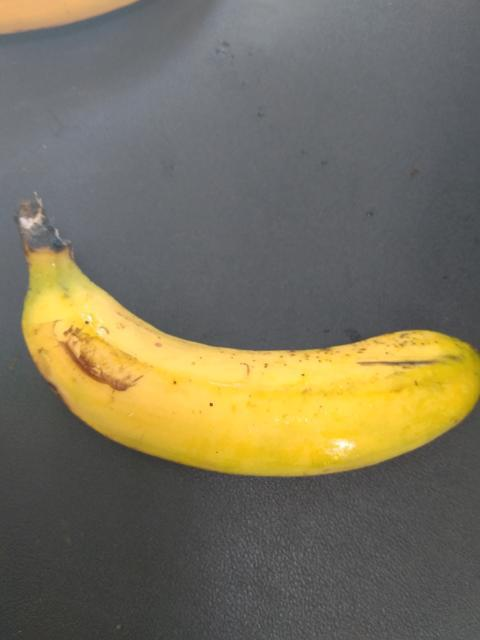ripe: (19, 247, 479, 487)
